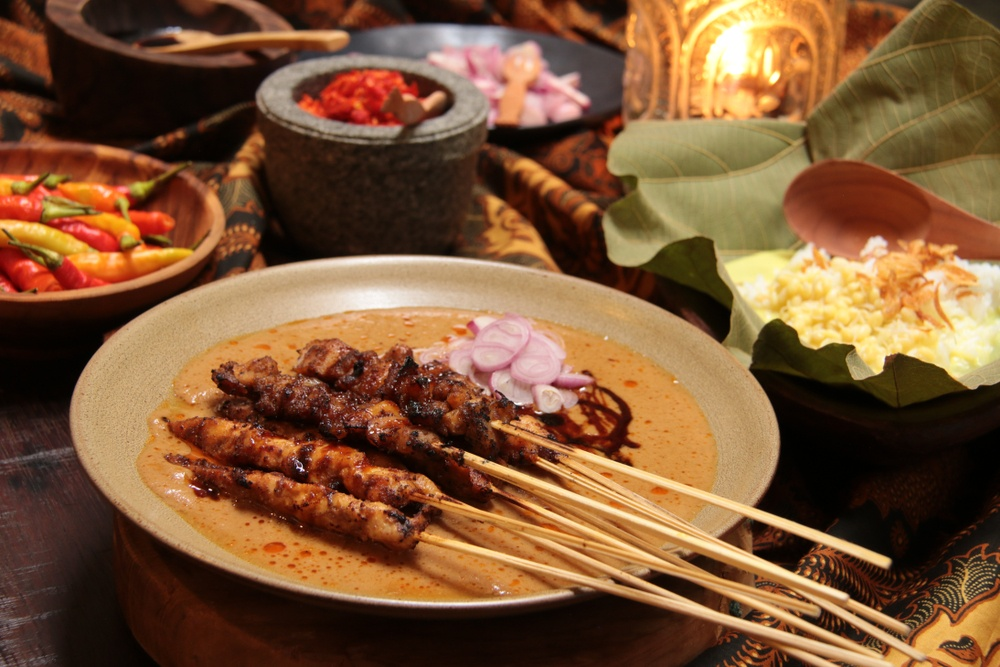sate: (162, 342, 926, 666)
